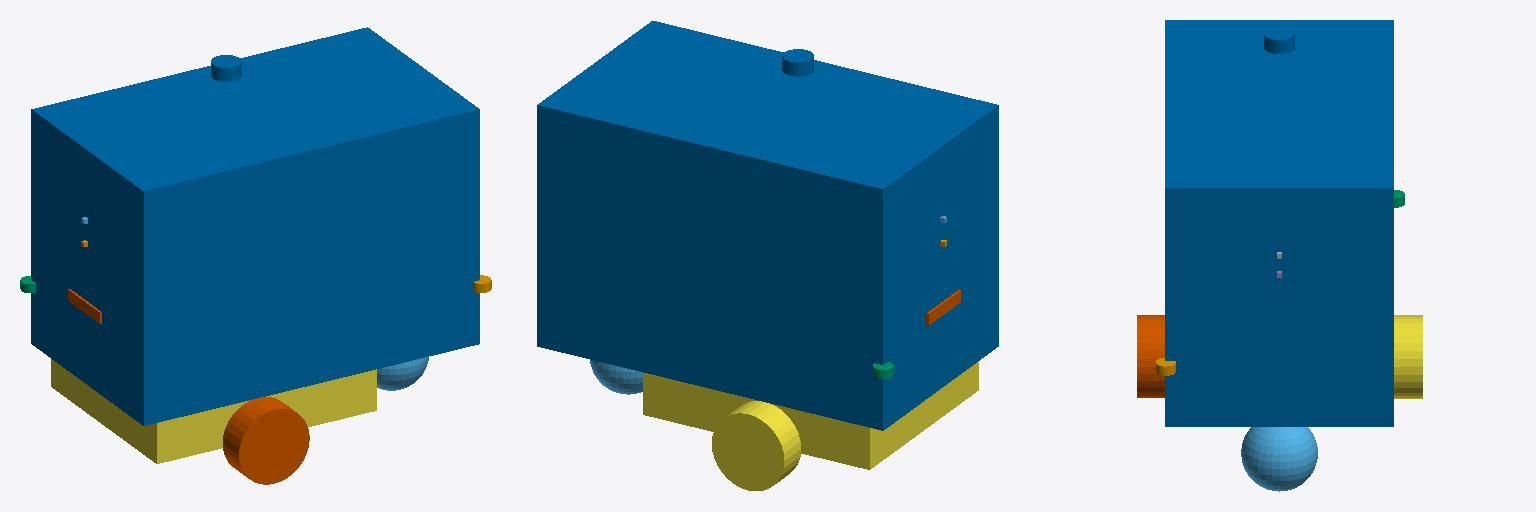
URDF robot description (robot_gazebo_s1):
<?xml version="1.0"?>
<!--
  Robot: robot_gazebo_s1
  Generated by: LinkForge v1.5.1
  https://github.com/arounamounchili/linkforge
  Date: 2026-09-14 18:22:48
-->
<robot name="robot_gazebo_s1">
  <!-- Links -->
  <link name="back_camera_color_frame">
    <inertial>
      <mass value="0.1" />
      <inertia ixx="0.000007" ixy="0" ixz="0" iyy="0.000007" iyz="0" izz="0.000007" />
    </inertial>
    <visual>
      <geometry>
        <box size="0.02 0.02 0.02" />
      </geometry>
    </visual>
  </link>
  <link name="back_camera_depth_frame">
    <inertial>
      <mass value="0.1" />
      <inertia ixx="0.000007" ixy="0" ixz="0" iyy="0.000007" iyz="0" izz="0.000007" />
    </inertial>
    <visual>
      <geometry>
        <box size="0.02 0.02 0.02" />
      </geometry>
    </visual>
  </link>
  <link name="back_rplidar">
    <inertial>
      <origin xyz="0 0 0" rpy="0 0 0" />
      <mass value="0.1" />
      <inertia ixx="0.000053" ixy="0" ixz="0" iyy="0.000053" iyz="0" izz="0.00008" />
    </inertial>
    <visual>
      <origin xyz="0 0 0" rpy="0 0 0" />
      <geometry>
        <cylinder radius="0.04" length="0.04" />
      </geometry>
    </visual>
  </link>
  <link name="base_footprint">
    <inertial>
      <mass value="5" />
      <inertia ixx="0.30705" ixy="0" ixz="0" iyy="0.43251" iyz="0" izz="0.707873" />
    </inertial>
    <visual>
      <geometry>
        <box size="1 0.836 0.195" />
      </geometry>
    </visual>
    <collision>
      <geometry>
        <box size="1 0.836 0.195" />
      </geometry>
    </collision>
  </link>
  <link name="base_link">
    <inertial>
      <mass value="100" />
      <inertia ixx="12.2856" ixy="0" ixz="0" iyy="22.803125" iyz="0" izz="21.043326" />
    </inertial>
    <visual>
      <geometry>
        <box size="1.529 0.883 1.02" />
      </geometry>
    </visual>
    <collision>
      <geometry>
        <box size="1.3761 0.7947 0.918" />
      </geometry>
    </collision>
  </link>
  <link name="base_link_dummy">
    <inertial>
      <mass value="0.5" />
      <inertia ixx="0.002708" ixy="0" ixz="0" iyy="0.000108" iyz="0" izz="0.002608" />
    </inertial>
    <visual>
      <geometry>
        <box size="0.01 0.25 0.05" />
      </geometry>
    </visual>
  </link>
  <link name="front_camera_color_frame">
    <inertial>
      <mass value="0.1" />
      <inertia ixx="0.000007" ixy="0" ixz="0" iyy="0.000007" iyz="0" izz="0.000007" />
    </inertial>
    <visual>
      <geometry>
        <box size="0.02 0.02 0.02" />
      </geometry>
    </visual>
  </link>
  <link name="front_camera_depth_frame">
    <inertial>
      <mass value="0.1" />
      <inertia ixx="0.000007" ixy="0" ixz="0" iyy="0.000007" iyz="0" izz="0.000007" />
    </inertial>
    <visual>
      <geometry>
        <box size="0.02 0.02 0.02" />
      </geometry>
    </visual>
  </link>
  <link name="front_rplidar">
    <inertial>
      <mass value="0.1" />
      <inertia ixx="0.000053" ixy="0" ixz="0" iyy="0.000053" iyz="0" izz="0.00008" />
    </inertial>
    <visual>
      <geometry>
        <cylinder radius="0.04" length="0.04" />
      </geometry>
    </visual>
  </link>
  <link name="front_wheel">
    <inertial>
      <origin xyz="0 0 0" rpy="0 0 0" />
      <mass value="2" />
      <inertia ixx="0.017761" ixy="0" ixz="0" iyy="0.017761" iyz="0" izz="0.017761" />
    </inertial>
    <visual>
      <origin xyz="0 0 0" rpy="0 0 0" />
      <geometry>
        <sphere radius="0.149" />
      </geometry>
    </visual>
    <collision>
      <origin xyz="0 0 0" rpy="0 0 0" />
      <geometry>
        <sphere radius="0.149" />
      </geometry>
    </collision>
  </link>
  <link name="imu_link">
    <inertial>
      <mass value="0.1" />
      <inertia ixx="0.000007" ixy="0" ixz="0" iyy="0.000007" iyz="0" izz="0.000007" />
    </inertial>
    <visual>
      <geometry>
        <box size="0.02 0.02 0.02" />
      </geometry>
    </visual>
  </link>
  <link name="left_wheel">
    <inertial>
      <origin xyz="0 0 0" rpy="0 0 0" />
      <mass value="2" />
      <inertia ixx="0.015734" ixy="0" ixz="0" iyy="0.015734" iyz="0" izz="0.025921" />
    </inertial>
    <visual>
      <origin xyz="0 0 0" rpy="0 0 0" />
      <geometry>
        <cylinder radius="0.161" length="0.129" />
      </geometry>
    </visual>
    <collision>
      <origin xyz="0 0 0" rpy="0 0 0" />
      <geometry>
        <cylinder radius="0.161" length="0.129" />
      </geometry>
    </collision>
  </link>
  <link name="lidar_3d">
    <inertial>
      <mass value="0.1" />
      <inertia ixx="0.000123" ixy="0" ixz="0" iyy="0.000123" iyz="0" izz="0.000186" />
    </inertial>
    <visual>
      <geometry>
        <cylinder radius="0.061" length="0.06" />
      </geometry>
    </visual>
  </link>
  <link name="right_wheel">
    <inertial>
      <origin xyz="0 0 0" rpy="0 0 0" />
      <mass value="2" />
      <inertia ixx="0.015734" ixy="0" ixz="0" iyy="0.015734" iyz="0" izz="0.025921" />
    </inertial>
    <visual>
      <origin xyz="0 0 0" rpy="0 0 0" />
      <geometry>
        <cylinder radius="0.161" length="0.129" />
      </geometry>
    </visual>
    <collision>
      <origin xyz="0 0 0" rpy="0 0 0" />
      <geometry>
        <cylinder radius="0.161" length="0.129" />
      </geometry>
    </collision>
  </link>
  <!-- Joints -->
  <joint name="back_camera_color_frame_joint" type="fixed">
    <origin xyz="-0.776996 0 0.107013" rpy="0 0 -3.141593" />
    <parent link="base_link" />
    <child link="back_camera_color_frame" />
  </joint>
  <joint name="back_camera_depth_frame_joint" type="fixed">
    <origin xyz="-0.776996 0 0.207358" rpy="0 3.141593 0" />
    <parent link="base_link" />
    <child link="back_camera_depth_frame" />
  </joint>
  <joint name="back_rplidar_joint" type="fixed">
    <origin xyz="-0.766534 0.44463 -0.252251" rpy="0 0 -3.141593" />
    <parent link="base_link" />
    <child link="back_rplidar" />
  </joint>
  <joint name="base_link_dummy_joint" type="fixed">
    <origin xyz="-0.776996 0 -0.164698" rpy="0 0 -3.141593" />
    <parent link="base_link" />
    <child link="base_link_dummy" />
  </joint>
  <joint name="base_link_joint" type="fixed">
    <origin xyz="0.190904 0 0.604698" rpy="0 0 0" />
    <parent link="base_footprint" />
    <child link="base_link" />
  </joint>
  <joint name="front_camera_color_frame_joint" type="fixed">
    <origin xyz="0.779486 0 0.14662" rpy="0 0 0" />
    <parent link="base_link" />
    <child link="front_camera_color_frame" />
  </joint>
  <joint name="front_camera_depth_frame_joint" type="fixed">
    <origin xyz="0.779486 0 0.227885" rpy="-3.141593 0 0" />
    <parent link="base_link" />
    <child link="front_camera_depth_frame" />
  </joint>
  <joint name="front_rplidar_joint" type="fixed">
    <origin xyz="0.771484 -0.439697 -0.252251" rpy="0 0 0" />
    <parent link="base_link" />
    <child link="front_rplidar" />
  </joint>
  <joint name="front_wheel_joint" type="fixed">
    <origin xyz="0.616967 0 -0.692066" rpy="0 0 0" />
    <parent link="base_link" />
    <child link="front_wheel" />
  </joint>
  <joint name="imu_link_joint" type="fixed">
    <origin xyz="-0.190904 0 -0.604698" rpy="0 0 0" />
    <parent link="base_link" />
    <child link="imu_link" />
  </joint>
  <joint name="left_wheel_joint" type="continuous">
    <origin xyz="-0.232679 0.490829 -0.678066" rpy="-1.570796 1.570796 0" />
    <parent link="base_link" />
    <child link="left_wheel" />
    <axis xyz="0 0 1" />
    <limit effort="10" velocity="1" lower="0" upper="0" />
  </joint>
  <joint name="lidar_3d_joint" type="fixed">
    <origin xyz="-0.13395 0 0.718897" rpy="0 0 0" />
    <parent link="base_link" />
    <child link="lidar_3d" />
  </joint>
  <joint name="right_wheel_joint" type="continuous">
    <origin xyz="-0.234395 -0.487712 -0.678066" rpy="-1.570796 1.570796 0" />
    <parent link="base_link" />
    <child link="right_wheel" />
    <axis xyz="0 0 1" />
    <limit effort="10" velocity="1" lower="0" upper="0" />
  </joint>
  <!-- Sensors -->
  <gazebo reference="back_rplidar">
    <sensor name="back_scan" type="lidar">
      <always_on>true</always_on>
      <update_rate>10</update_rate>
      <visualize>false</visualize>
      <topic>/back_scan</topic>
      <pose>0 0 0 0 0 0</pose>
      <ray>
        <scan>
          <horizontal>
            <samples>640</samples>
            <resolution>1</resolution>
            <min_angle>-1.570796</min_angle>
            <max_angle>1.570796</max_angle>
          </horizontal>
        </scan>
        <range>
          <min>0.1</min>
          <max>10</max>
          <resolution>0.01</resolution>
        </range>
      </ray>
    </sensor>
  </gazebo>
  <gazebo reference="back_camera_color_frame">
    <sensor name="cam_back" type="camera">
      <always_on>true</always_on>
      <update_rate>10</update_rate>
      <visualize>false</visualize>
      <topic>/rgb_camera_back/image_raw</topic>
      <camera>
        <horizontal_fov>1.047</horizontal_fov>
        <image>
          <width>640</width>
          <height>480</height>
          <format>R8G8B8</format>
        </image>
        <clip>
          <near>0.1</near>
          <far>100</far>
        </clip>
      </camera>
    </sensor>
  </gazebo>
  <gazebo reference="front_camera_color_frame">
    <sensor name="cam_front" type="camera">
      <always_on>true</always_on>
      <update_rate>10</update_rate>
      <visualize>false</visualize>
      <topic>/rgb_camera_front/image_raw</topic>
      <camera>
        <horizontal_fov>1.047</horizontal_fov>
        <image>
          <width>640</width>
          <height>480</height>
          <format>R8G8B8</format>
        </image>
        <clip>
          <near>0.1</near>
          <far>100</far>
        </clip>
      </camera>
    </sensor>
  </gazebo>
  <gazebo reference="back_camera_depth_frame">
    <sensor name="depth_cam_back" type="depth_camera">
      <always_on>true</always_on>
      <update_rate>10</update_rate>
      <visualize>false</visualize>
      <topic>/camera3/depth/points</topic>
      <camera>
        <horizontal_fov>1.047</horizontal_fov>
        <image>
          <width>640</width>
          <height>480</height>
          <format>R8G8B8</format>
        </image>
        <clip>
          <near>0.1</near>
          <far>100</far>
        </clip>
      </camera>
      <depth_camera>
        <output>
          <type>depth</type>
        </output>
      </depth_camera>
    </sensor>
  </gazebo>
  <gazebo reference="front_camera_depth_frame">
    <sensor name="depth_cam_front" type="depth_camera">
      <always_on>true</always_on>
      <update_rate>10</update_rate>
      <visualize>false</visualize>
      <topic>/camera1/depth/points</topic>
      <camera>
        <horizontal_fov>1.047</horizontal_fov>
        <image>
          <width>640</width>
          <height>480</height>
          <format>R8G8B8</format>
        </image>
        <clip>
          <near>0.1</near>
          <far>100</far>
        </clip>
      </camera>
      <depth_camera>
        <output>
          <type>depth</type>
        </output>
      </depth_camera>
    </sensor>
  </gazebo>
  <gazebo reference="front_rplidar">
    <sensor name="front_scan" type="lidar">
      <always_on>true</always_on>
      <update_rate>10</update_rate>
      <visualize>false</visualize>
      <topic>/front_scan</topic>
      <ray>
        <scan>
          <horizontal>
            <samples>640</samples>
            <resolution>1</resolution>
            <min_angle>-1.570796</min_angle>
            <max_angle>1.570796</max_angle>
          </horizontal>
        </scan>
        <range>
          <min>0.1</min>
          <max>10</max>
          <resolution>0.01</resolution>
        </range>
      </ray>
    </sensor>
  </gazebo>
  <gazebo reference="imu_link">
    <sensor name="imu_sensor" type="imu">
      <always_on>true</always_on>
      <update_rate>30</update_rate>
      <visualize>false</visualize>
      <topic>/imu/data</topic>
      <imu />
    </sensor>
  </gazebo>
  <gazebo reference="lidar_3d">
    <sensor name="lidar_3d" type="lidar">
      <always_on>true</always_on>
      <update_rate>10</update_rate>
      <visualize>true</visualize>
      <topic>/vanjee/lidar</topic>
      <ray>
        <scan>
          <horizontal>
            <samples>640</samples>
            <resolution>1</resolution>
            <min_angle>-1.570796</min_angle>
            <max_angle>1.570796</max_angle>
          </horizontal>
        </scan>
        <range>
          <min>0.1</min>
          <max>10</max>
          <resolution>0.01</resolution>
        </range>
      </ray>
    </sensor>
  </gazebo>
</robot>

--- Render facts (derived) ---
Views: 3 orthographic renders of the robot side by side, from view 1: azimuth 30°, elevation 25°; view 2: azimuth 150°, elevation 25°; view 3: azimuth 270°, elevation 25°.
Robot: robot_gazebo_s1 — 14 links, 13 joints (2 continuous, 11 fixed); root link base_footprint; default pose: all joints at 0.
Visible links, largest first — view 1: base_link, base_footprint, right_wheel, front_wheel, lidar_3d; view 2: base_link, base_footprint, left_wheel, front_wheel, lidar_3d; view 3: base_link, front_wheel, left_wheel, right_wheel, lidar_3d.
Boxes of the visible links, x1,y1,x2,y2 form: base_link: (31, 27, 479, 425); base_footprint: (51, 359, 376, 463); right_wheel: (223, 397, 309, 484); front_wheel: (377, 357, 428, 390); lidar_3d: (211, 55, 241, 81); base_link: (537, 21, 998, 430); base_footprint: (643, 361, 978, 469); left_wheel: (712, 401, 800, 490); front_wheel: (590, 360, 642, 394); lidar_3d: (782, 49, 813, 76); base_link: (1165, 20, 1393, 426); front_wheel: (1241, 427, 1317, 491); left_wheel: (1394, 315, 1422, 398); right_wheel: (1137, 315, 1164, 397); lidar_3d: (1264, 27, 1294, 53).
Bounding box of the posed robot: 1.62 × 1.11 × 1.59 m (x, y, z).
Geometry: primitives only (box / cylinder / sphere), no mesh files.
